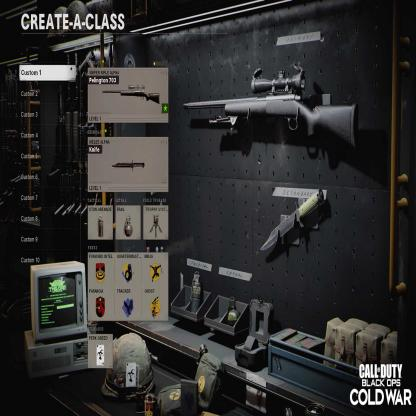Grenade: (189, 270, 202, 315), (227, 296, 240, 327), (123, 214, 134, 239), (96, 213, 105, 239)
Gun: (182, 60, 358, 154), (101, 83, 161, 107)
Knife: (261, 186, 325, 254), (111, 160, 146, 172)
